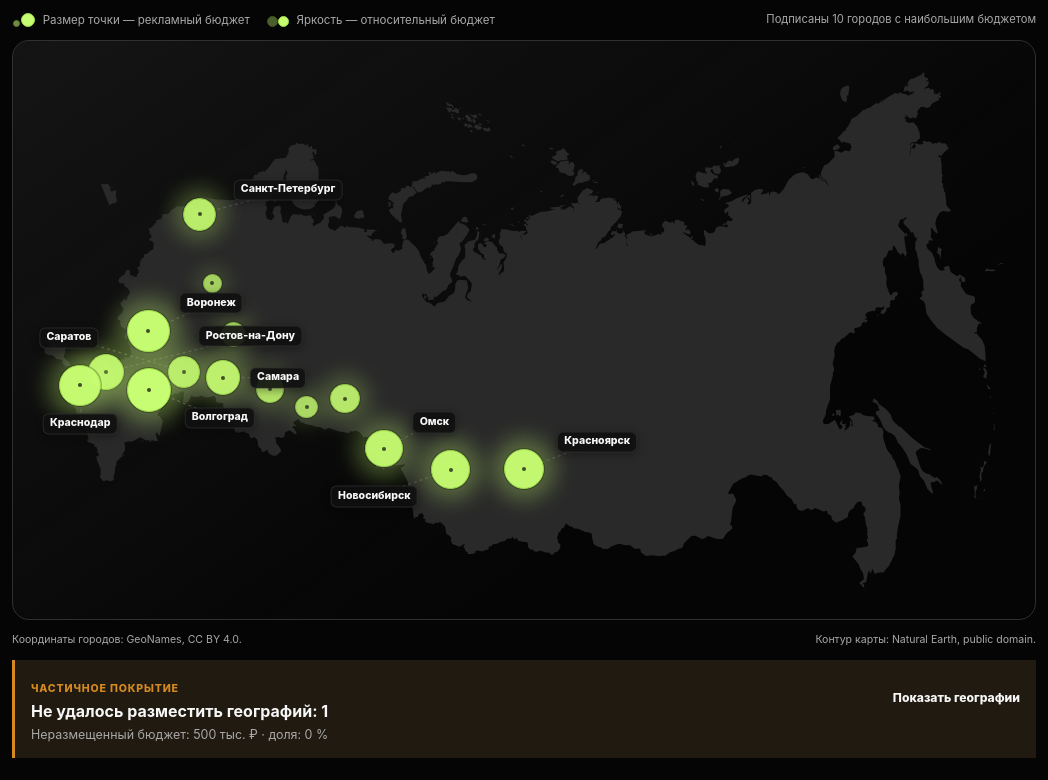
Test: GeoBudgetMap › keeps partial unlocated budget and names visible without treating coverage as an error
Check: the text "Частичное покрытие" is shown, box [31,682,179,695]
Check: the text "Неразмещенный бюджет: 500 тыс. ₽ · доля: 0 %" is shown, box [31,727,328,742]
Click the heading "Показать географии" at [956, 698], box [893,690,1020,705]
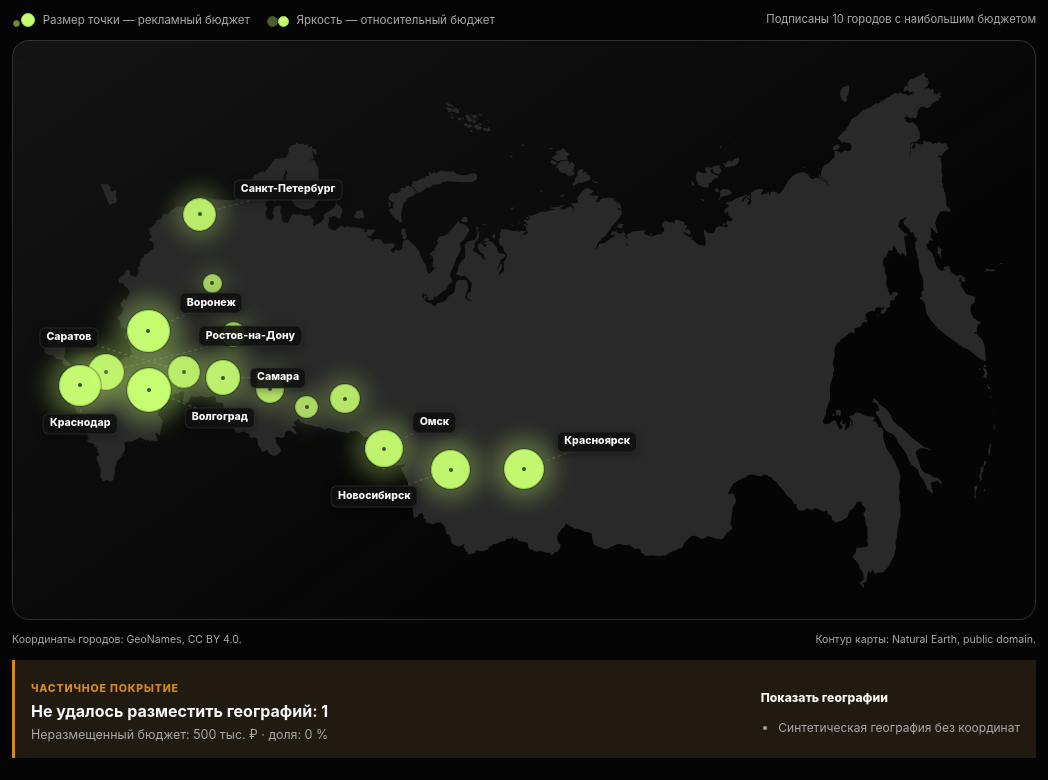
Check: the list item "Синтетическая география без координат" is shown, box [778,720,1020,735]
